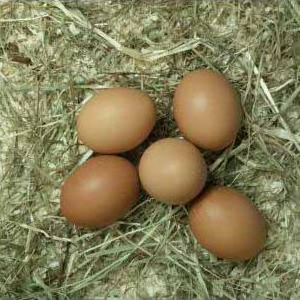egg: (187, 184, 265, 262), (173, 68, 244, 153), (59, 155, 138, 229), (76, 87, 158, 154), (138, 137, 209, 206)
